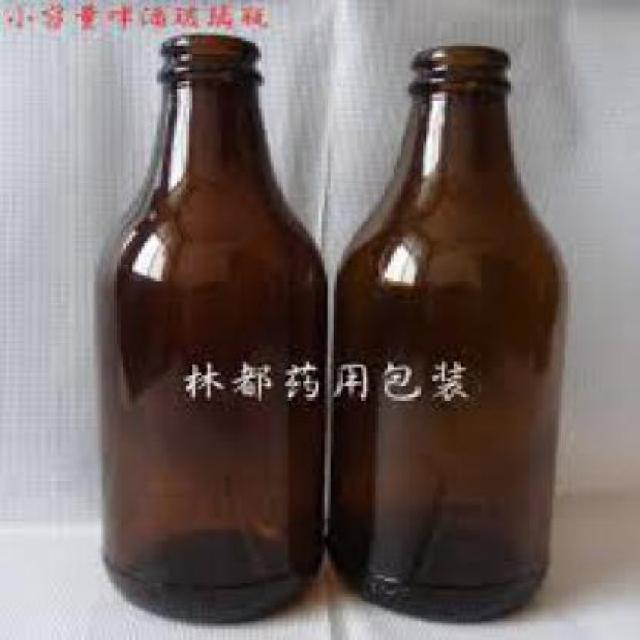kaca: (90, 32, 324, 625), (330, 43, 568, 625)
